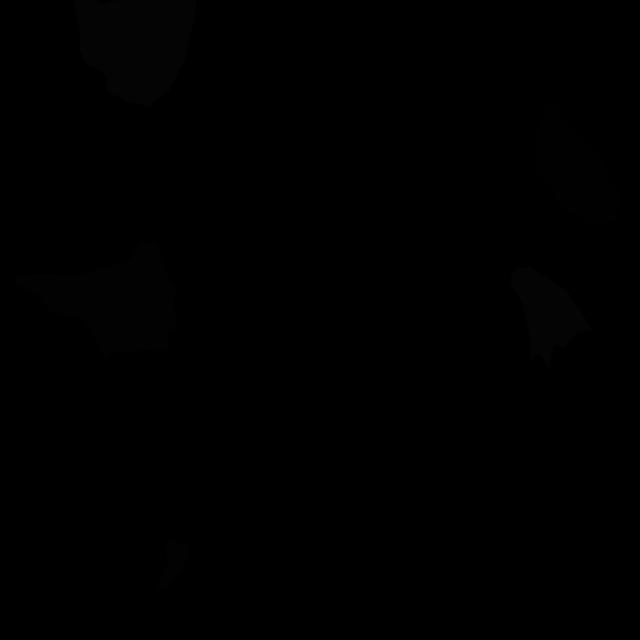cardboard: (16, 242, 178, 363), (156, 538, 190, 591)
rigid_plastic: (533, 99, 621, 227)
soft_plastic: (74, 0, 196, 107), (511, 266, 592, 369)
